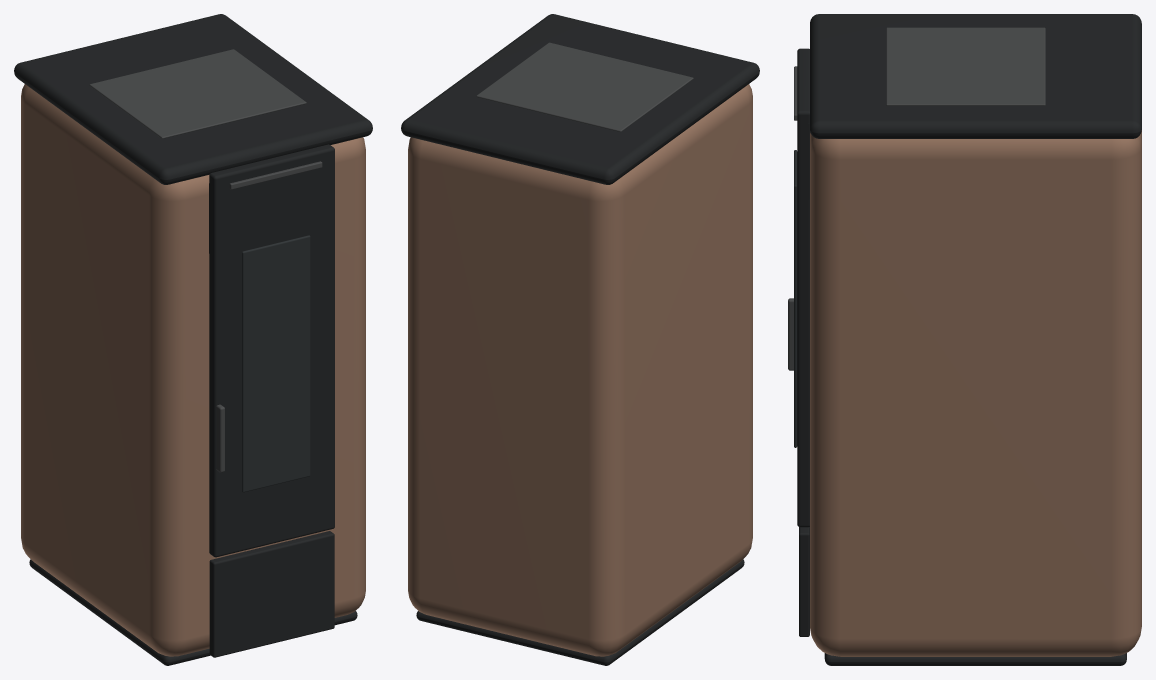
The model's file is nordica-rosanna-idro-50-bronzo.glb.
3 views of the same model, side by side, from view 1: azimuth 30°, elevation 25°; view 2: azimuth 150°, elevation 25°; view 3: azimuth 270°, elevation 25° (orthographic). The views are drawn at different scales.
Parts seen in each view (by area): view 1: Corpo arrotondato, Pannello porta, Coperchio superiore, Vetro porta, Pannello inferiore, Bocchetta superiore, Zoccolo, Fessura aria, Maniglia; view 2: Corpo arrotondato, Coperchio superiore, Bocchetta superiore, Zoccolo; view 3: Corpo arrotondato, Coperchio superiore, Bocchetta superiore, Pannello porta, Zoccolo, Pannello inferiore, Vetro porta, Pannello superiore.
Part boxes in pixels (box(x1,y1,x2,y2)): Corpo arrotondato: box(21, 84, 365, 656); Pannello porta: box(209, 144, 334, 557); Coperchio superiore: box(14, 14, 372, 184); Vetro porta: box(242, 235, 310, 492); Pannello inferiore: box(209, 531, 334, 657); Bocchetta superiore: box(89, 49, 306, 138); Zoccolo: box(29, 559, 357, 665); Fessura aria: box(229, 161, 322, 189); Maniglia: box(216, 404, 224, 472); Corpo arrotondato: box(408, 84, 752, 656); Coperchio superiore: box(401, 14, 759, 184); Bocchetta superiore: box(476, 42, 693, 132); Zoccolo: box(416, 559, 744, 665); Corpo arrotondato: box(810, 130, 1141, 656); Coperchio superiore: box(810, 14, 1141, 138); Bocchetta superiore: box(886, 27, 1045, 105); Pannello porta: box(797, 48, 810, 527); Zoccolo: box(824, 653, 1126, 665); Pannello inferiore: box(799, 527, 809, 636); Vetro porta: box(794, 150, 797, 447); Pannello superiore: box(801, 123, 809, 199).
Bounding box in the file's own units: 0.511 × 1.16 × 0.6735.
